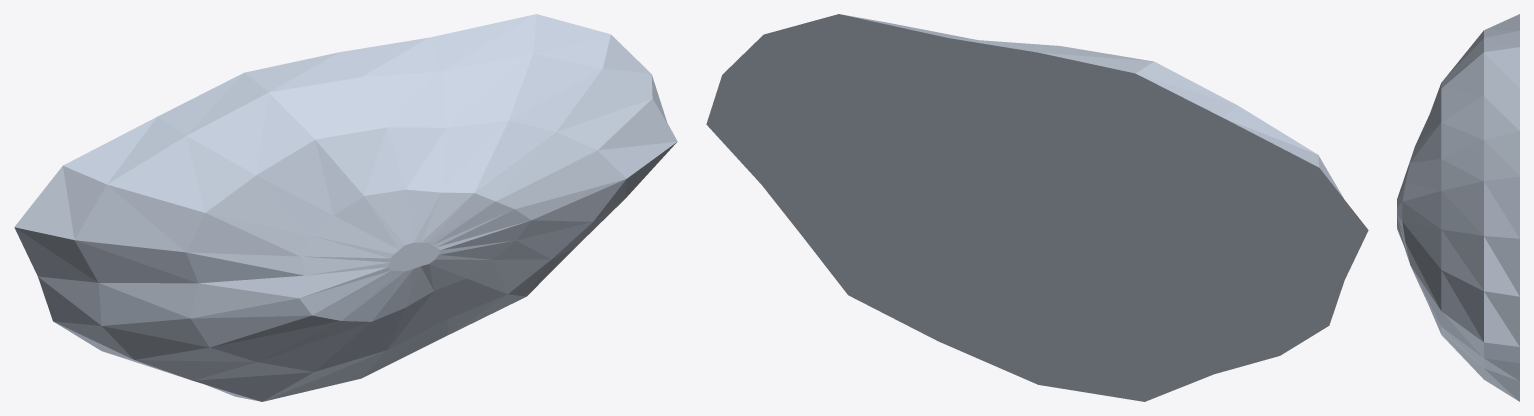
The model's file is Northern_Snowdrift.obj.
3 views of the same model, side by side, from view 1: azimuth 30°, elevation 25°; view 2: azimuth 150°, elevation 25°; view 3: azimuth 270°, elevation 25° (orthographic). The views are drawn at different scales.
Visible parts, largest first — view 1: Northern_Snowdrift; view 2: Northern_Snowdrift; view 3: Northern_Snowdrift.
Boxes of the visible parts, box(x1,y1,x2,y2) form: Northern_Snowdrift: box(14, 14, 677, 401); Northern_Snowdrift: box(706, 14, 1368, 401); Northern_Snowdrift: box(1397, 14, 1519, 401).
Bounding box in the file's own units: 384 × 186 × 75.
